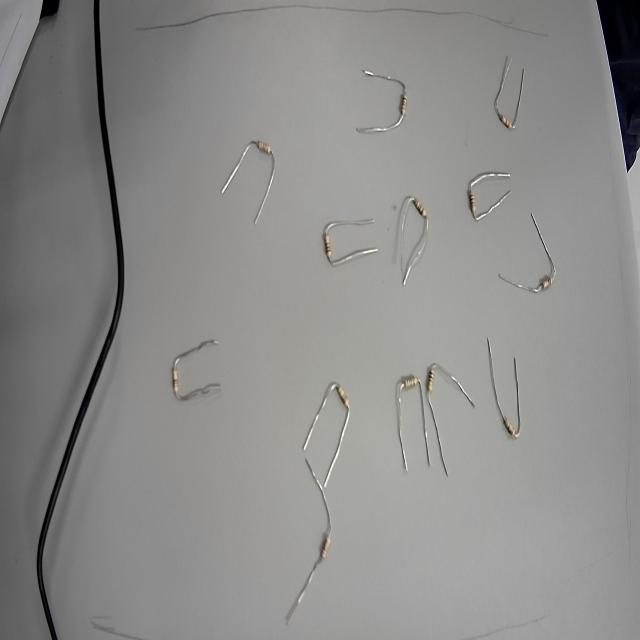resistor: (311, 202, 362, 278), (232, 120, 286, 190), (396, 192, 436, 282), (509, 253, 568, 312), (480, 378, 526, 452), (476, 78, 535, 134), (380, 49, 414, 144), (321, 363, 361, 442), (308, 500, 344, 586), (421, 352, 466, 414), (162, 332, 195, 416), (388, 341, 421, 422), (459, 161, 497, 228)
